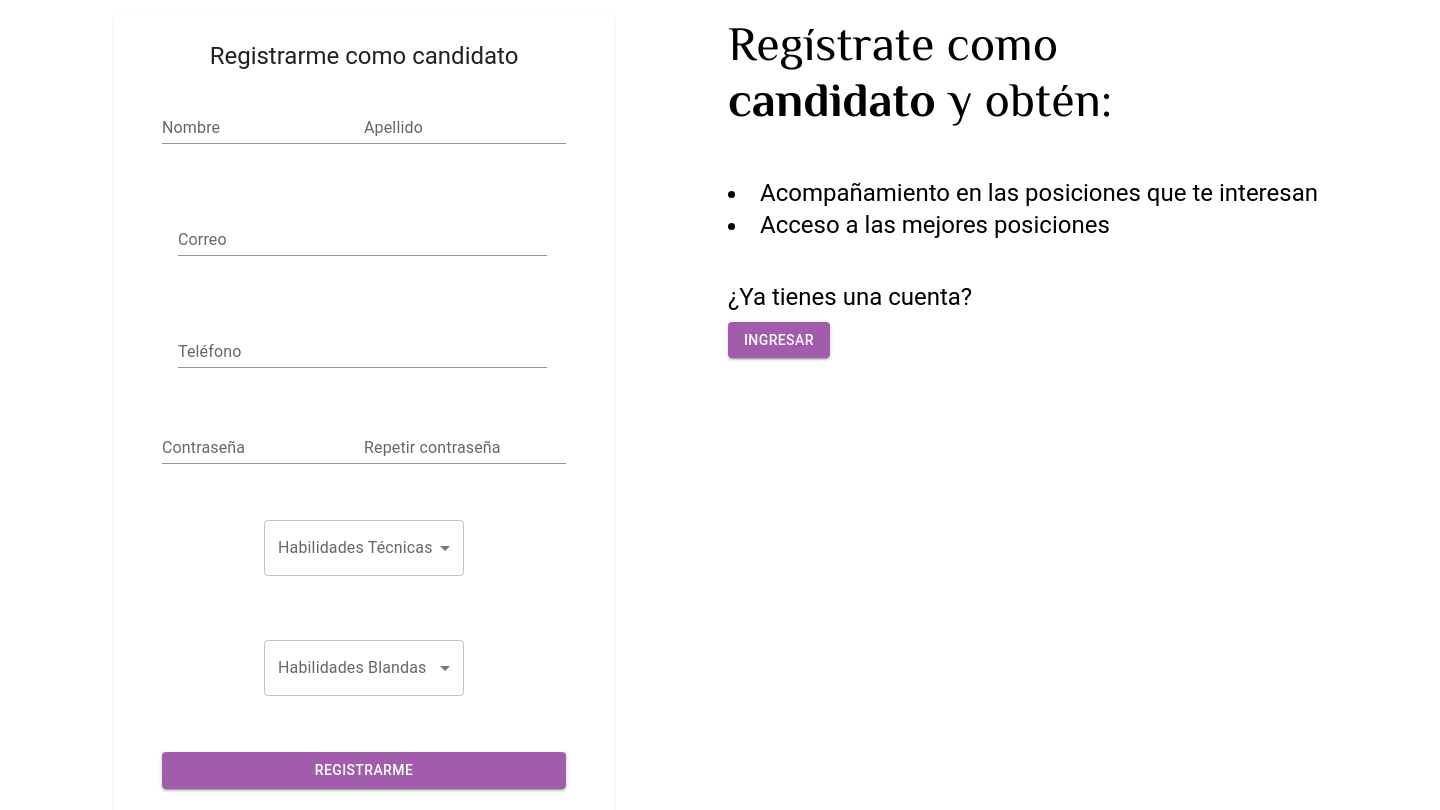
Test case: Register Component › shows invalid email error
This screenshot has width=1440, height=810.
Type "123" into the field labelled "Correo" at (362, 240), box [178, 224, 547, 256]
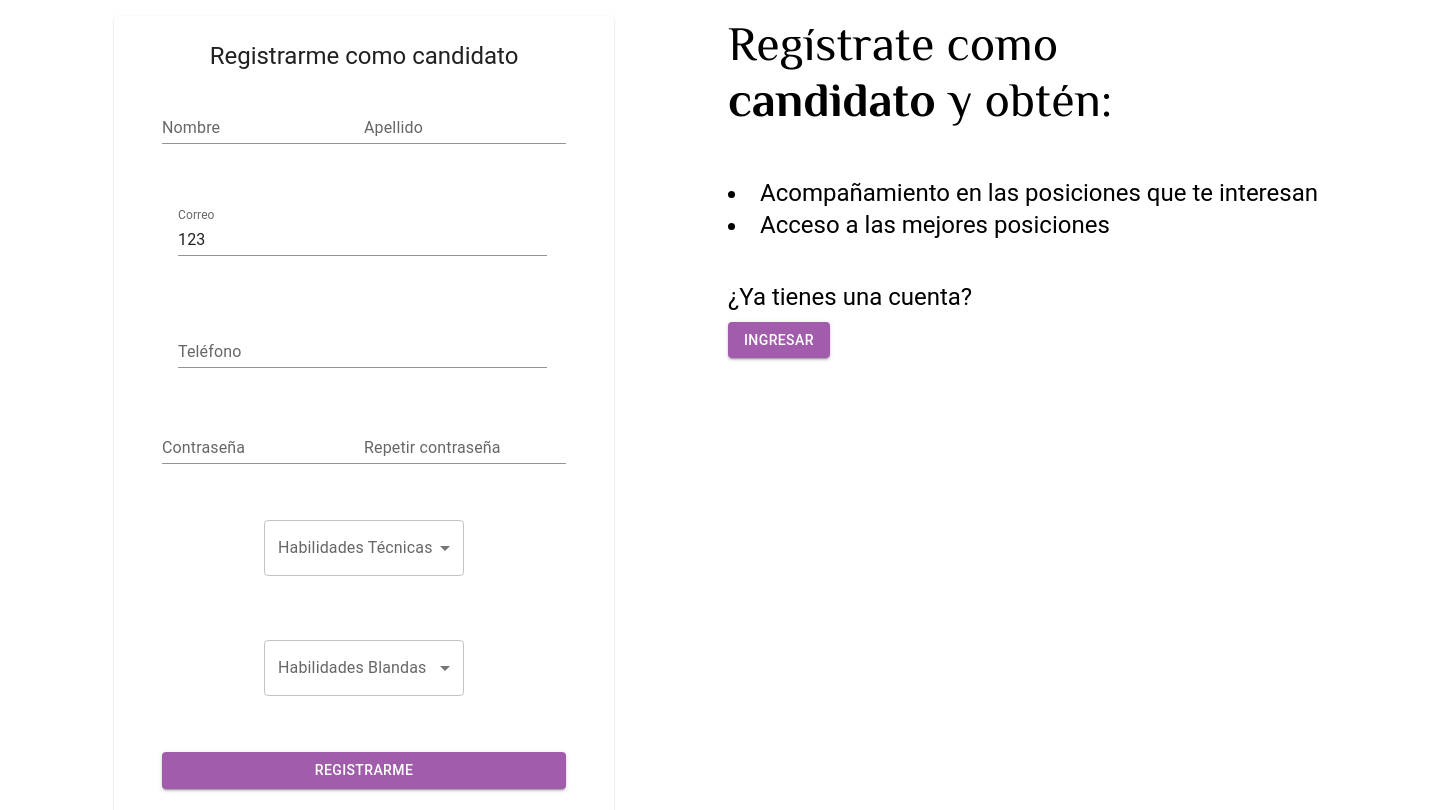
Click the button "Registrarme" at (364, 770), box [162, 752, 566, 788]
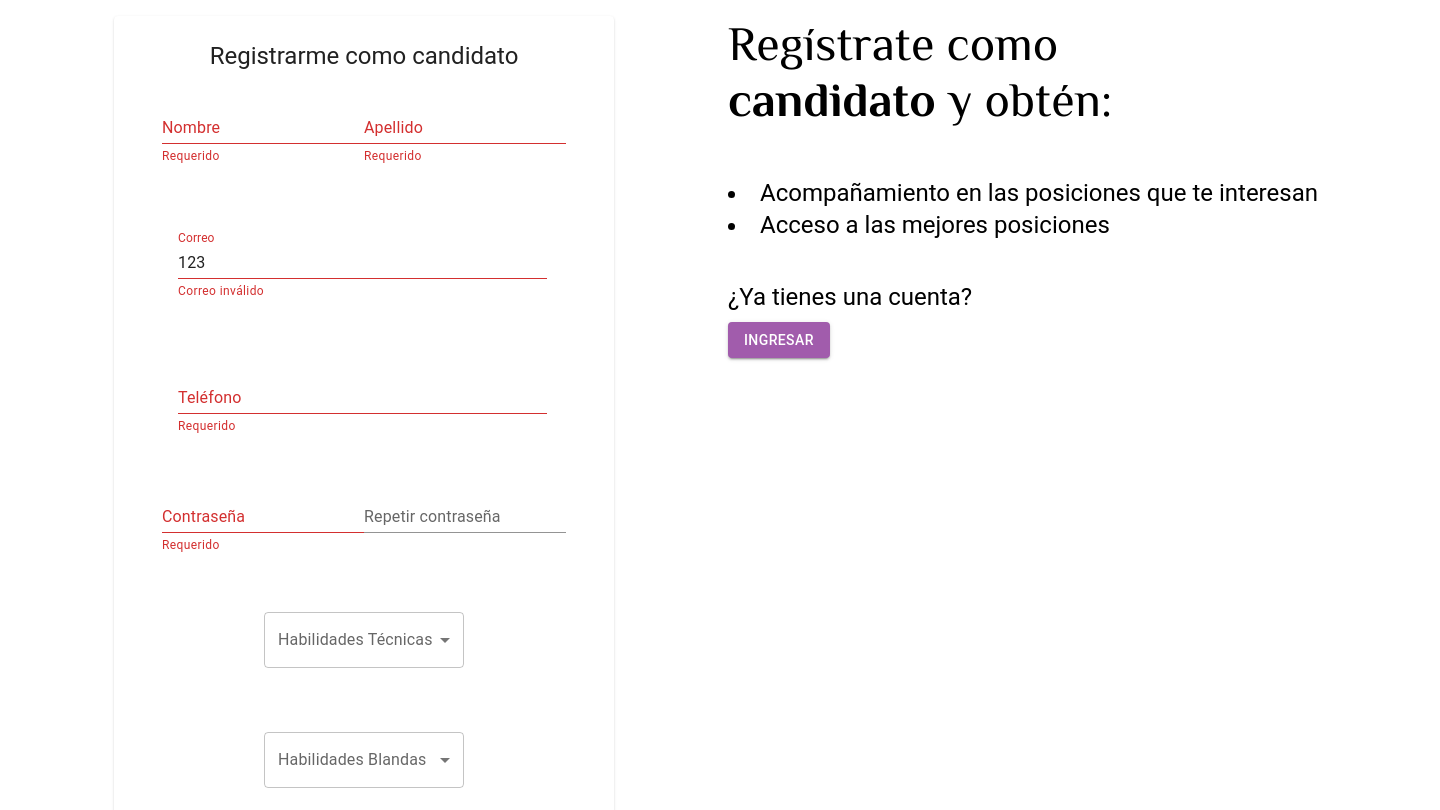
Expected: the text "Correo inválido" is shown, [178, 284, 264, 298]
